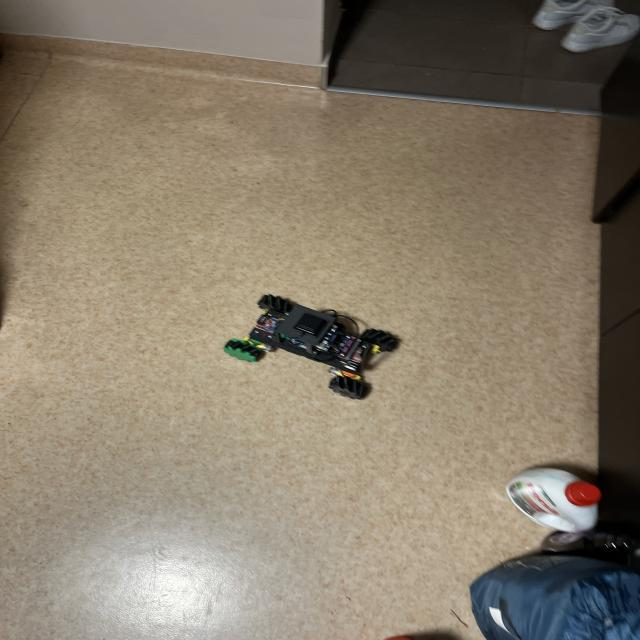robot: (224, 294, 398, 399)
